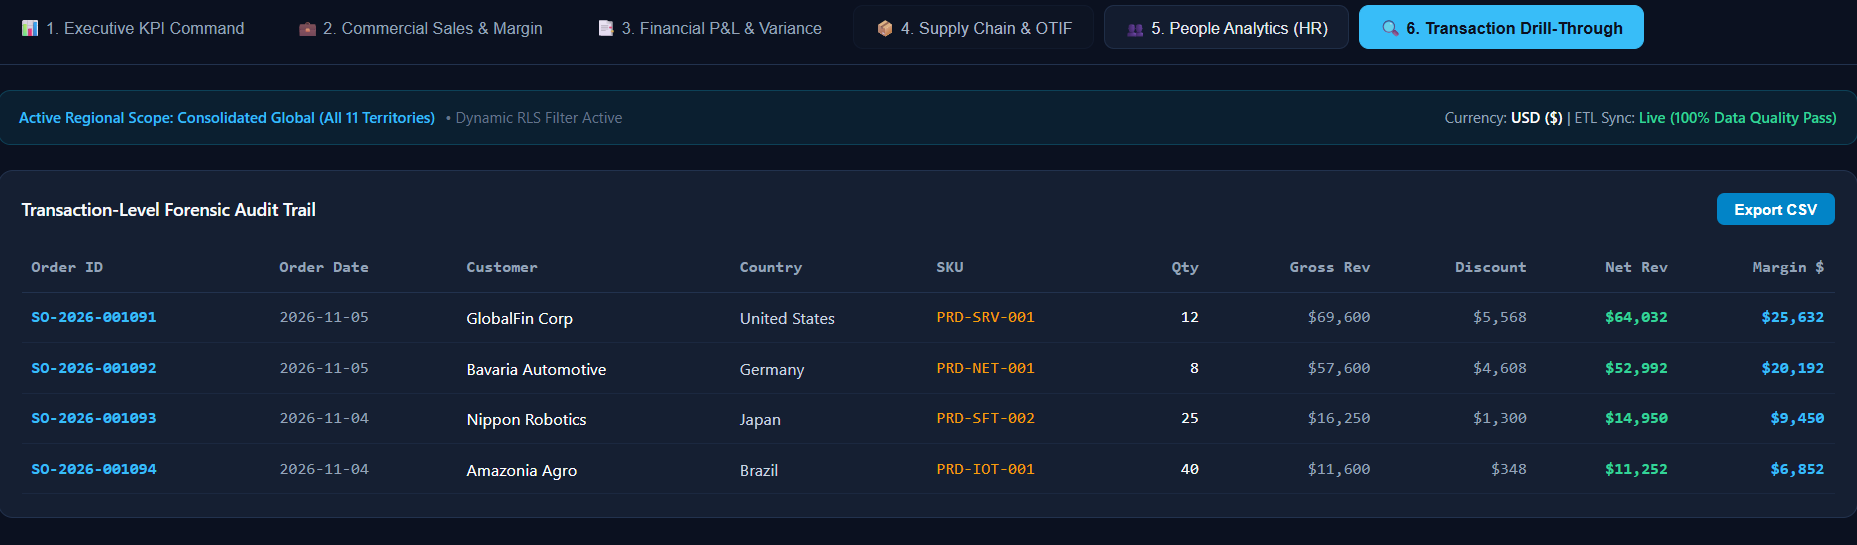

The page's visual inventory and layout, read from the dashboard file:
{"tool":"powerbi","page":{"name":"Transaction Drill Through","canvas":[1920,1080],"ordinal":5},"visuals":[{"type":"textbox","box":[10,0,626,80],"z":0},{"type":"pageNavigator","box":[10,104,1888,94],"z":1000},{"type":"cardVisual","fields":{"Data":["Fact_Sales.Active Scope"]},"box":[10,238,1888,160],"z":2000},{"type":"textbox","box":[896,302,1002,54],"z":3000},{"type":"tableEx","fields":{"Values":["Fact_Sales.OrderNumber","Fact_Sales.OrderDateKey","Dim_Customer.CustomerName","Dim_Geography.Country","Fact_Sales.Quantity Sold","Fact_Sales.Gross Revenue","Fact_Sales.Net Revenue Line","Fact_Sales.Discount Amount","Fact_Sales.Margin $"]},"box":[10,424,1888,620],"z":4000}]}

Visuals, with their boxes on the page's 1920x1080 design canvas (x1, y1, x2, y2). These are canvas units, not pixel positions in the 1857x545 screenshot, which may show the page scaled, cropped or inside an application window:
textbox: [x1=10, y1=0, x2=636, y2=80]
pageNavigator: [x1=10, y1=104, x2=1898, y2=198]
cardVisual - Fact_Sales.Active Scope: [x1=10, y1=238, x2=1898, y2=398]
textbox: [x1=896, y1=302, x2=1898, y2=356]
tableEx - Fact_Sales.OrderNumber x Fact_Sales.OrderDateKey: [x1=10, y1=424, x2=1898, y2=1044]
